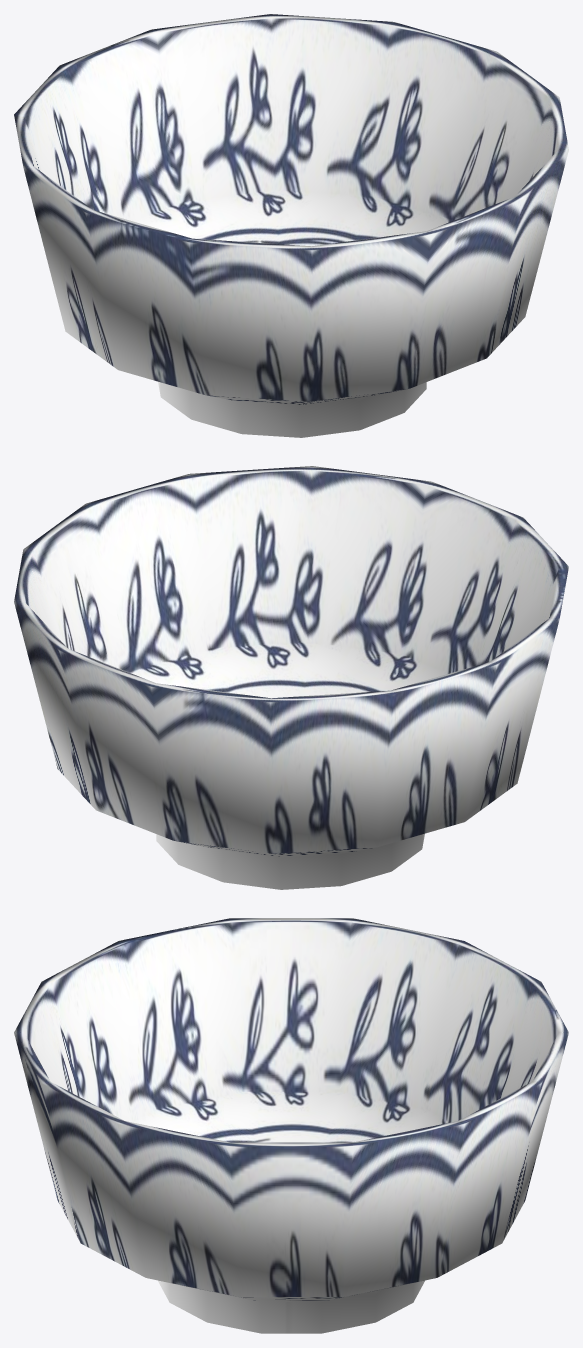
The model's file is BigBowl.fbx.
3 views of the same model, one above another, from view 1: azimuth 30°, elevation 25°; view 2: azimuth 150°, elevation 25°; view 3: azimuth 270°, elevation 25° (orthographic).
Visible parts, largest first — view 1: BigBowl.001; view 2: BigBowl.001; view 3: BigBowl.001.
Boxes of the visible parts, x1=… form: BigBowl.001: x1=14, y1=14, x2=568, y2=437; BigBowl.001: x1=14, y1=466, x2=568, y2=889; BigBowl.001: x1=14, y1=918, x2=568, y2=1333.
Size of the model in its own units: 617 by 308 by 633.
